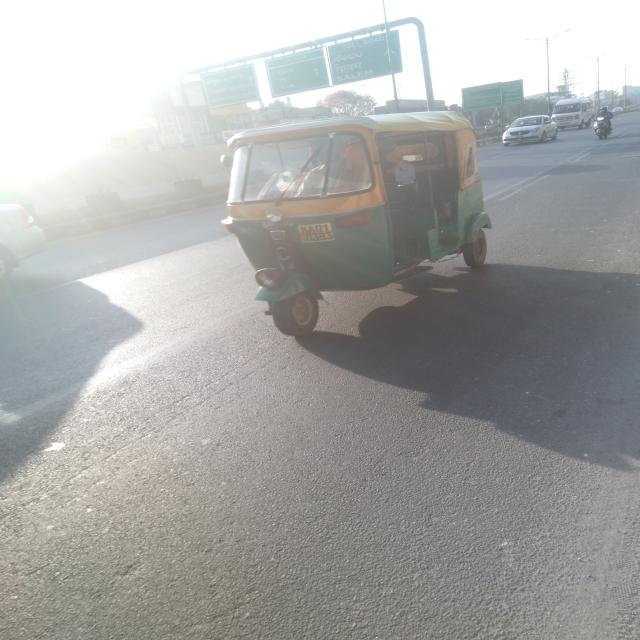Autorickshaw: (215, 110, 516, 332)
Bike: (591, 107, 614, 140), (482, 124, 494, 138)
Car: (502, 115, 559, 147), (611, 106, 624, 115)
Traveller: (549, 95, 597, 128)
